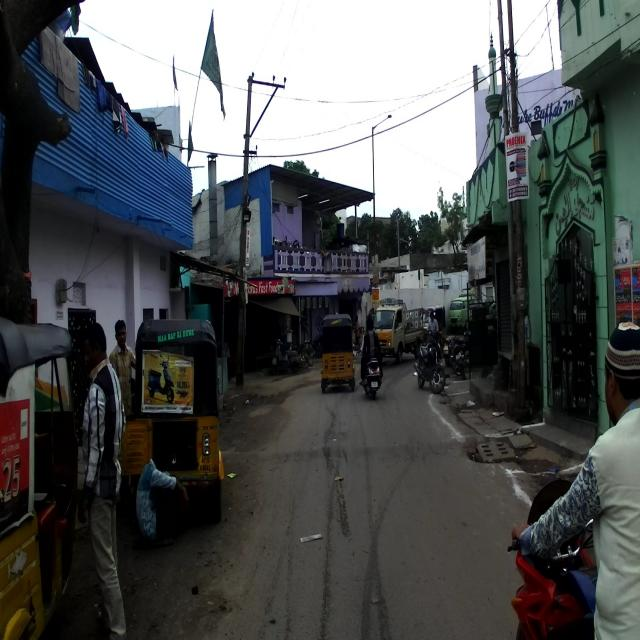autorickshaw: (0, 312, 79, 637), (121, 318, 225, 520)
motorcycle: (506, 474, 640, 639), (413, 334, 448, 394)
scooter: (358, 342, 385, 397)
